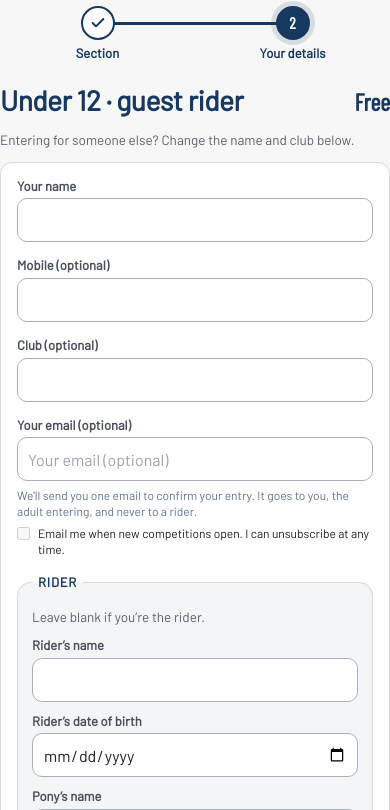
Scenario: steps 2 and 3: details, then pay › gives guest riders two steps, Free, and a Submit on the details
Expected: the heading "Under 12 · guest rider" is shown, top-left (0, 84), bottom-right (243, 116)
Expected: the text "Free" is shown, top-left (354, 86), bottom-right (389, 118)
Type "Synthetic Guest" into the field labelled "Your name".
click(195, 220); type("Synthetic Guest")  # box top-left (17, 198), bottom-right (373, 242)
(page scrolled)
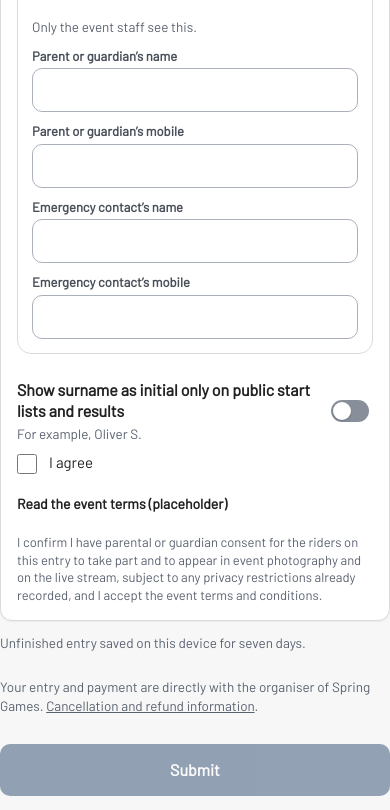
Click the checkbox labelled "I agree".
click(27, 464)  # box top-left (17, 454), bottom-right (37, 474)
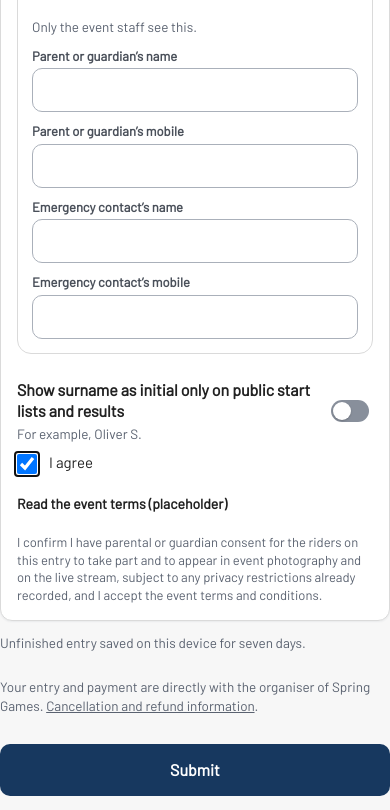
Click the button "Submit".
click(195, 770)  # box top-left (0, 744), bottom-right (389, 796)
(page scrolled)
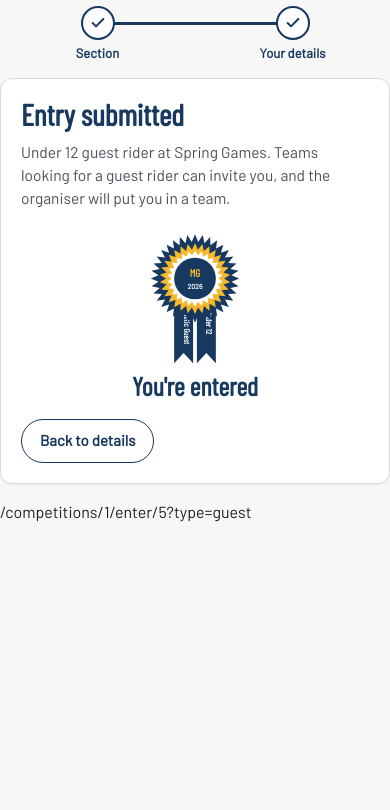
Expected: the heading "Entry submitted" is shown, top-left (21, 96), bottom-right (184, 132)
Expected: the text "Teams looking for a guest rider can invite you" is shown, top-left (21, 142), bottom-right (330, 207)
